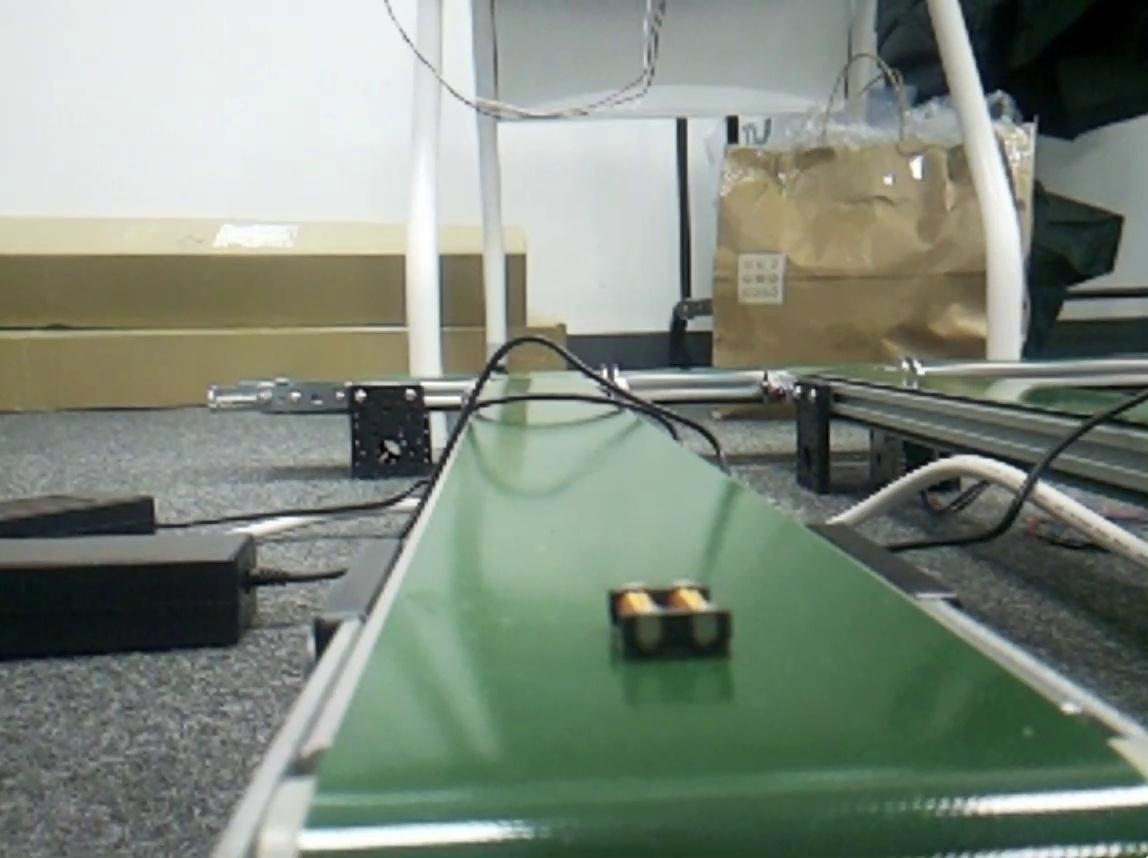inductor: (607, 578, 727, 657)
